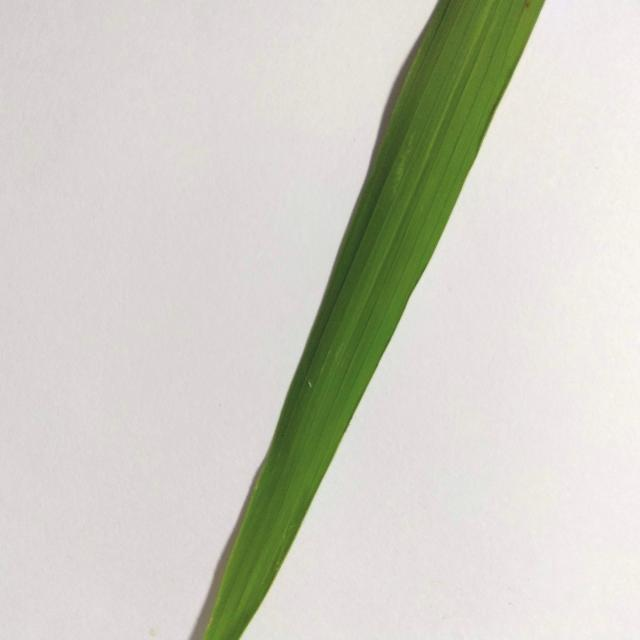Rice_Healthy: (204, 0, 544, 640)
